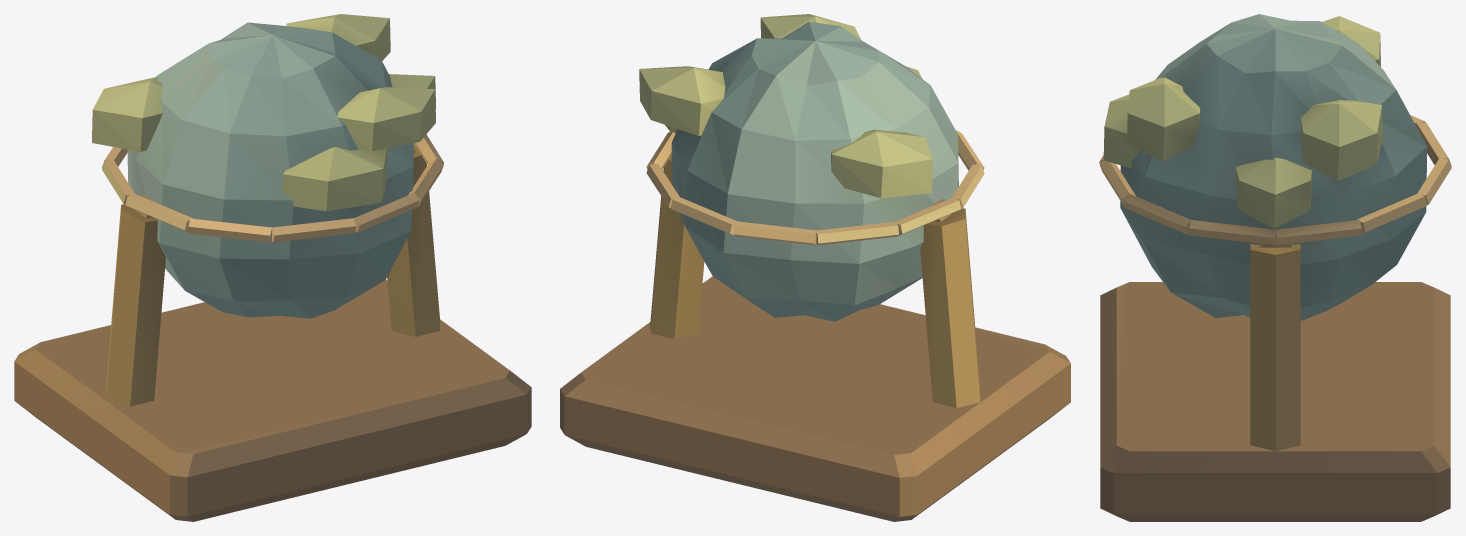
The model's file is furniture_gipfelglobus.glb.
The picture shows the model from 3 angles, left to right: view 1: azimuth 30°, elevation 25°; view 2: azimuth 150°, elevation 25°; view 3: azimuth 270°, elevation 25°; orthographic projection. The views are drawn at different scales.
Parts seen in each view (by area): view 1: furniture_gipfelglobus; view 2: furniture_gipfelglobus; view 3: furniture_gipfelglobus.
Boxes of the visible parts, box(x1,y1,x2,y2) form: furniture_gipfelglobus: box(14, 14, 531, 521); furniture_gipfelglobus: box(560, 14, 1070, 521); furniture_gipfelglobus: box(1099, 14, 1451, 521).
Size of the model in its own units: 0.78 by 0.81 by 0.6336.
